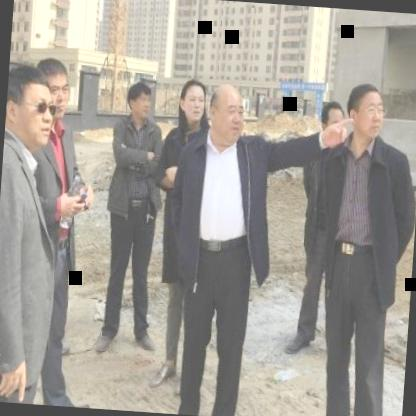head: (6, 63, 56, 151), (202, 76, 249, 144), (345, 79, 388, 145), (36, 58, 70, 122), (175, 74, 211, 130), (317, 96, 351, 148), (123, 76, 157, 126)
